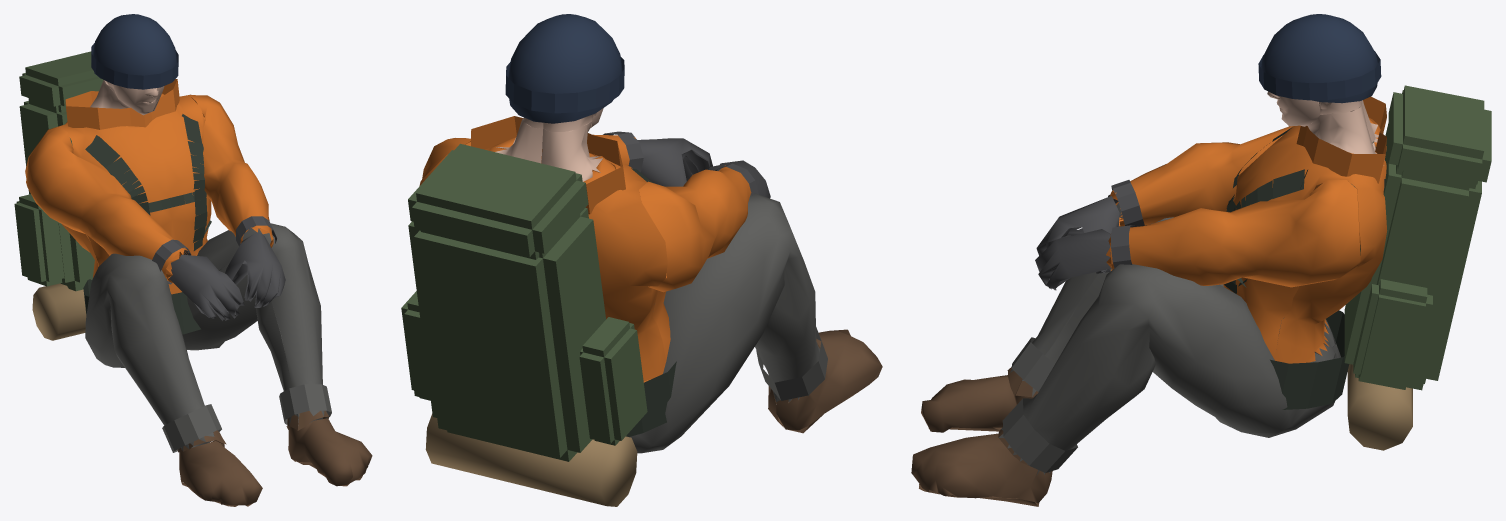
Rendered from hiker-sitting.glb.
3 views of the same model, side by side, from view 1: azimuth 30°, elevation 25°; view 2: azimuth 150°, elevation 25°; view 3: azimuth 270°, elevation 25° (orthographic). The views are drawn at different scales.
Parts seen in each view (by area): view 1: hiker-sitting; view 2: hiker-sitting; view 3: hiker-sitting.
Part boxes in pixels (<box>): hiker-sitting: <box>14,14,372,506</box>; hiker-sitting: <box>401,14,882,506</box>; hiker-sitting: <box>911,14,1491,506</box>.
Size of the model in its own units: 0.5717 by 1.01 by 1.18.
